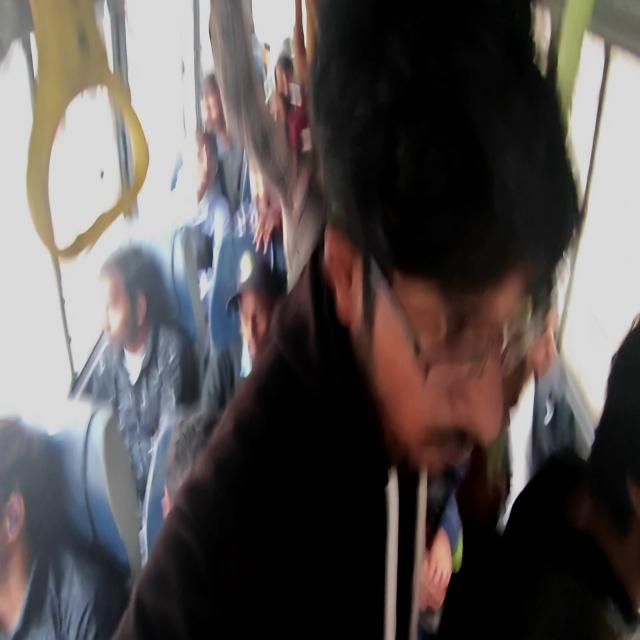person: (316, 20, 521, 461), (158, 434, 256, 620), (96, 238, 196, 402), (492, 235, 586, 405), (0, 448, 44, 640), (230, 294, 298, 414), (248, 152, 308, 245), (184, 146, 233, 215), (198, 69, 230, 138), (269, 51, 294, 97), (268, 90, 287, 135), (223, 58, 233, 64)
